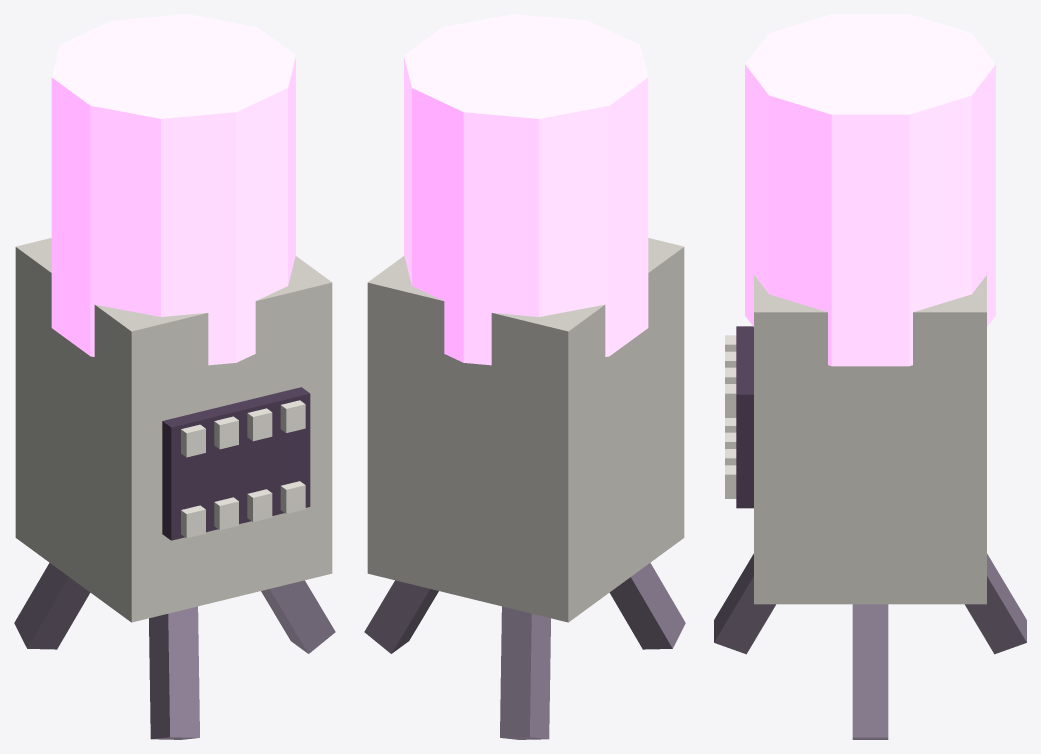
The model's file is water_cooler.glb.
3 views of the same model, side by side, from view 1: azimuth 30°, elevation 25°; view 2: azimuth 150°, elevation 25°; view 3: azimuth 270°, elevation 25° (orthographic).
Parts seen in each view (by area): view 1: Bottle, Body, Mouth, Leg2, Leg1, Leg0, Tooth3, Tooth2, ToothL2, ToothL3, ToothL0, ToothL1 (+2 smaller); view 2: Body, Bottle, Leg1, Leg2, Leg0; view 3: Bottle, Body, Leg0, Mouth, Leg1, Leg2.
Boxes of the visible parts, left/top/right/bottom form: Bottle: left=51, top=14, right=295, bottom=365; Body: left=15, top=238, right=332, bottom=622; Mouth: left=162, top=387, right=310, bottom=540; Leg2: left=149, top=606, right=199, bottom=739; Leg1: left=14, top=562, right=90, bottom=649; Leg0: left=261, top=580, right=335, bottom=653; Tooth3: left=280, top=400, right=305, bottom=433; Tooth2: left=247, top=408, right=272, bottom=441; ToothL2: left=247, top=489, right=272, bottom=521; ToothL3: left=280, top=481, right=305, bottom=513; ToothL0: left=181, top=505, right=205, bottom=538; ToothL1: left=214, top=497, right=238, bottom=530; Body: left=367, top=238, right=684, bottom=622; Bottle: left=404, top=14, right=648, bottom=365; Leg1: left=500, top=606, right=550, bottom=739; Leg2: left=609, top=562, right=685, bottom=649; Leg0: left=364, top=580, right=438, bottom=653; Bottle: left=745, top=14, right=995, bottom=366; Body: left=754, top=275, right=986, bottom=604; Leg0: left=852, top=604, right=888, bottom=739; Mouth: left=736, top=326, right=753, bottom=508; Leg1: left=965, top=553, right=1026, bottom=654; Leg2: left=714, top=553, right=775, bottom=654.
Size of the model in its own units: 0.6621 by 1.52 by 0.6992.
